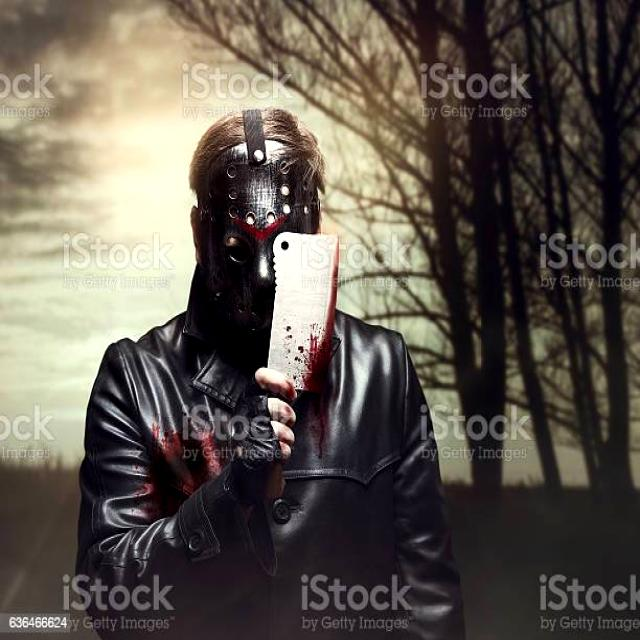cleaver: (218, 233, 343, 509)
